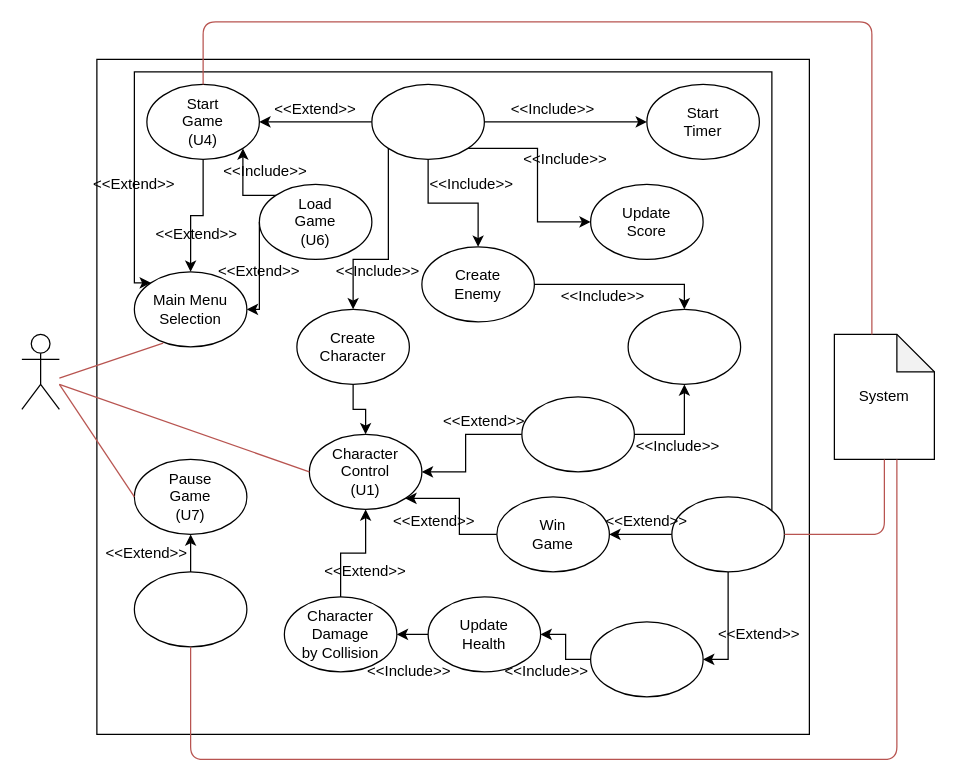
This 956x783 diagram has some shape labels left out. The centre of each missing label's shape, as x and y in pixels:
Actor: (40,371)
Create Level: (427,121)
Defeat Enemy (U3): (577,434)
End Game: (727,534)
Enemy Control (U2): (684,346)
If Character health <= 0: (646,659)
Save Game (U5): (190,609)
